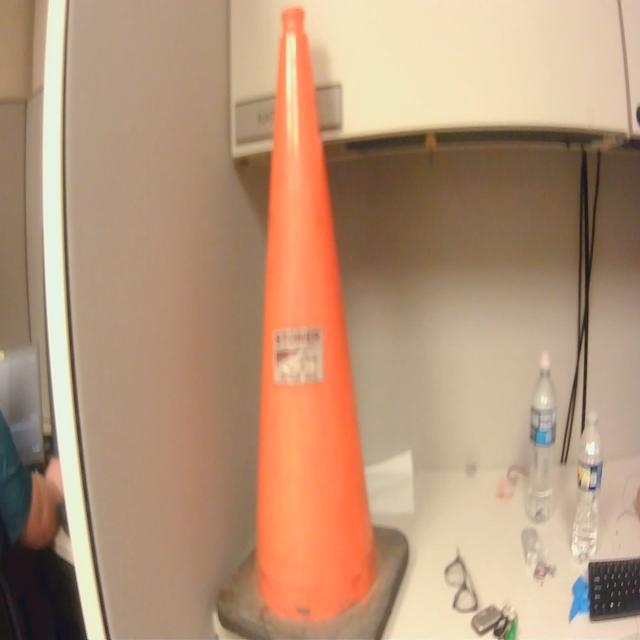traffic cone: (214, 3, 416, 640)
